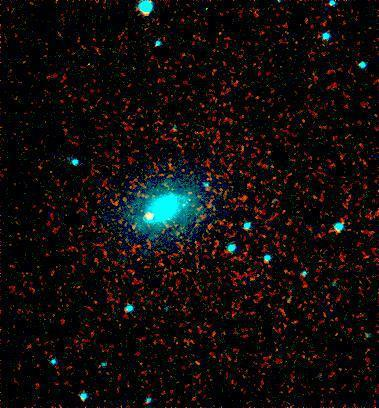star: (135, 202, 165, 232)
